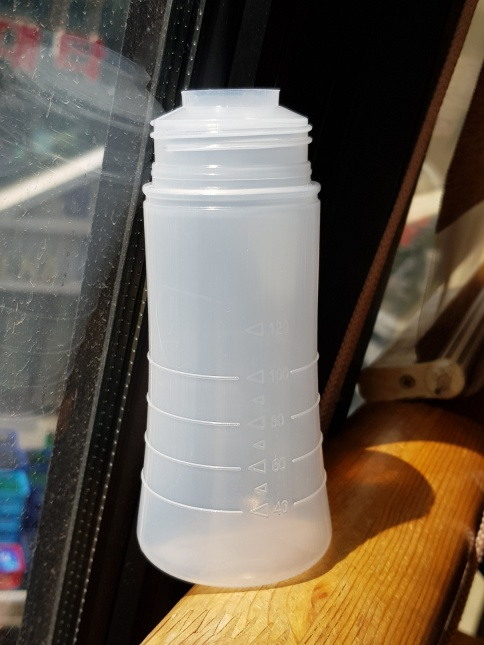Plastic: (130, 80, 337, 593)
